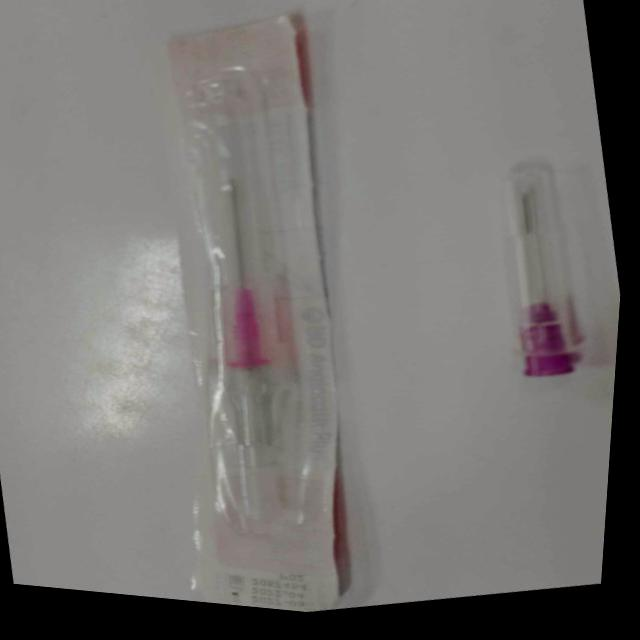Infectious: (166, 11, 351, 608)
Sharps: (506, 159, 587, 377)
